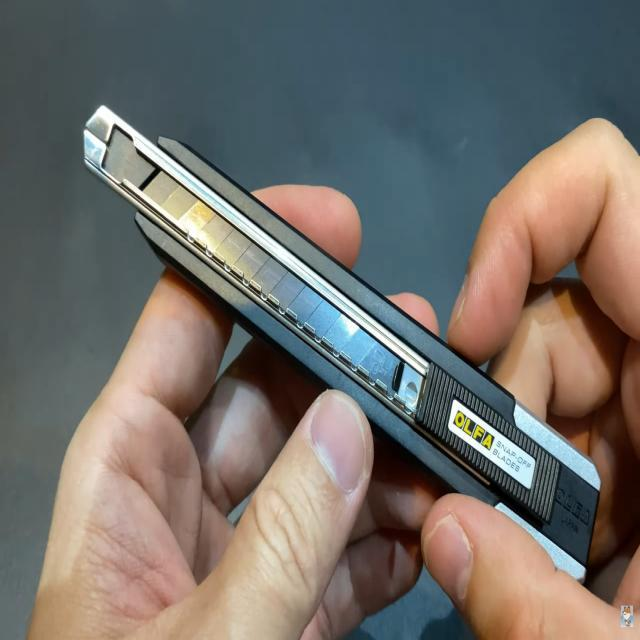cutter: (64, 65, 606, 595)
